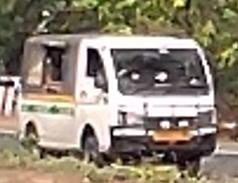Auto: (22, 34, 221, 173)
